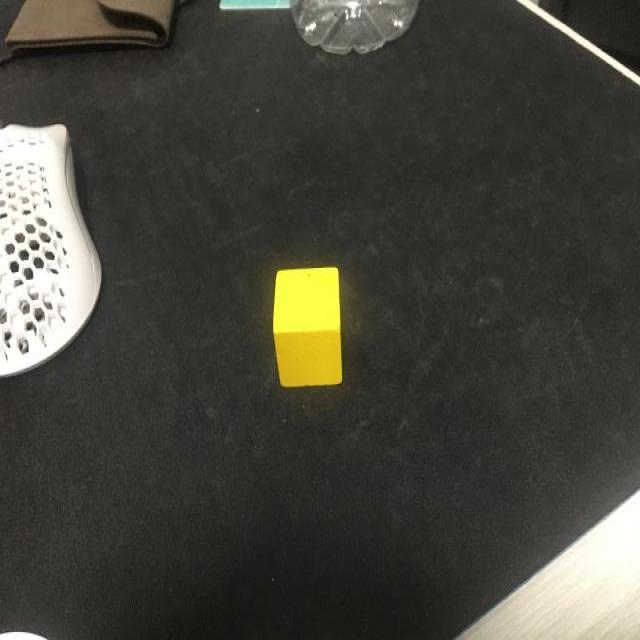yellow: (273, 266, 344, 387)
